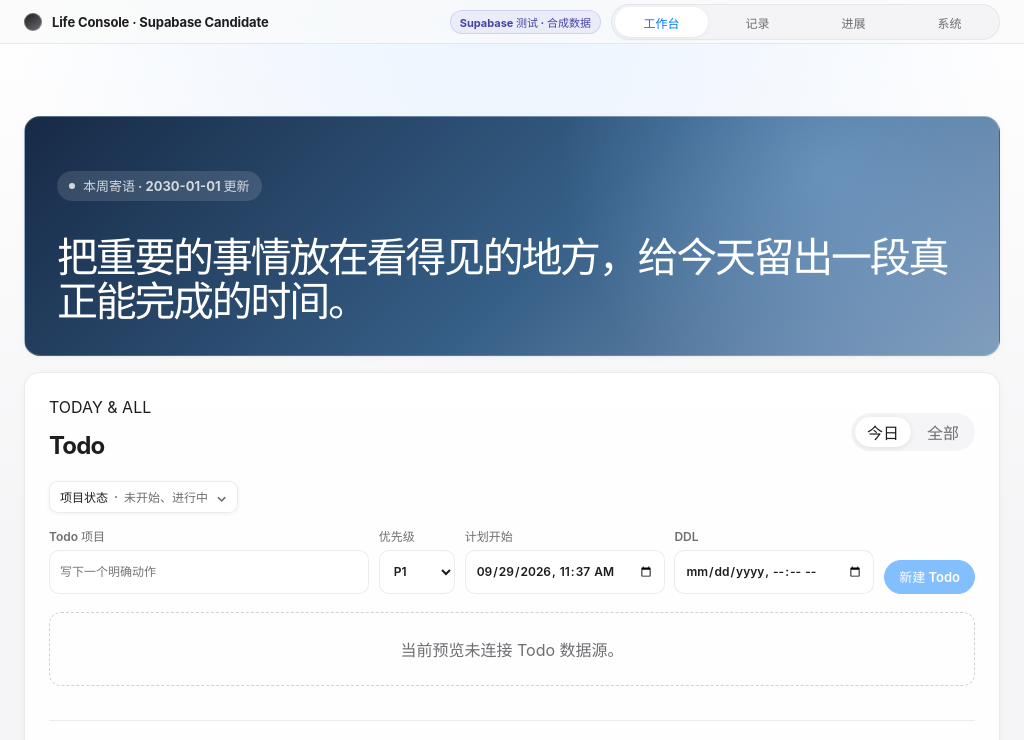
Test: Supabase candidate product application › guards the primary conversation form against duplicate submits while saving
Click the button "记录" at (757, 22), box [711, 7, 804, 37]
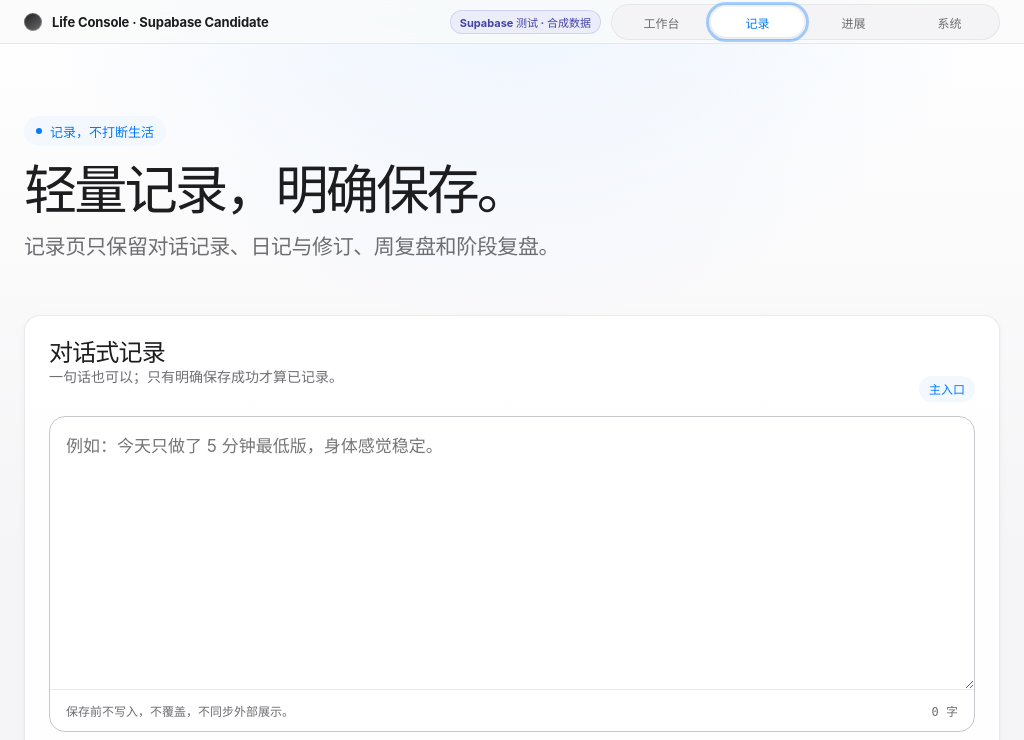
Type "Synthetic entry" into the text box named "直接描述想记录的内容" at (512, 553), box [50, 417, 974, 689]
(page scrolled)
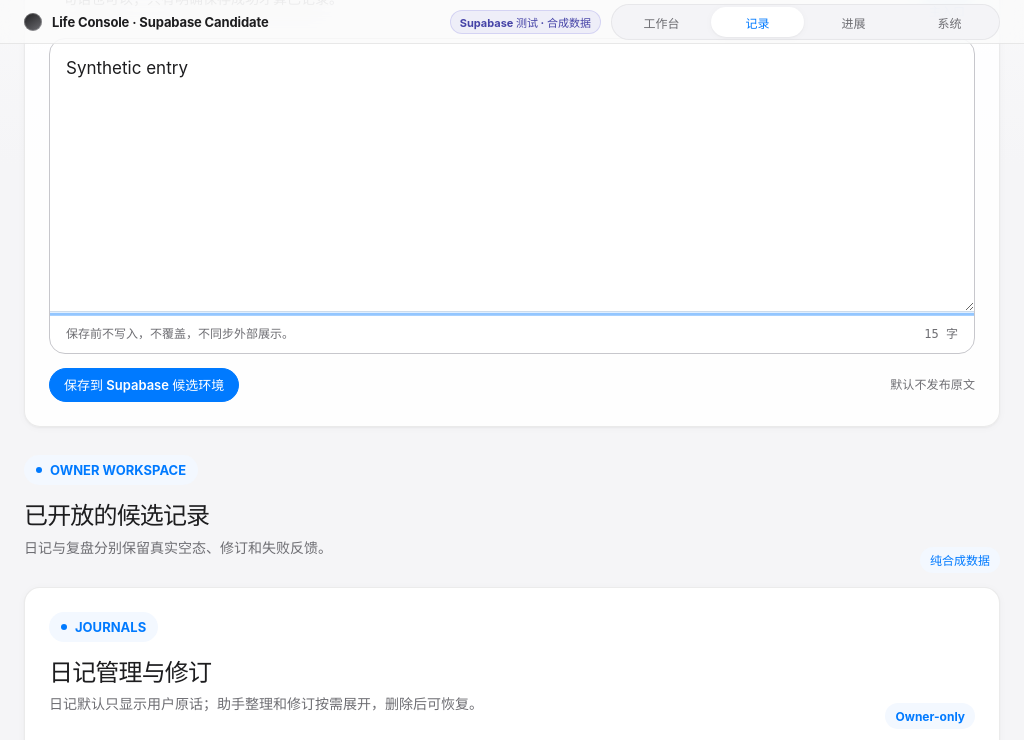
Click the button "保存到 Supabase 候选环境" at (144, 385), box [49, 368, 239, 402]
(page scrolled)
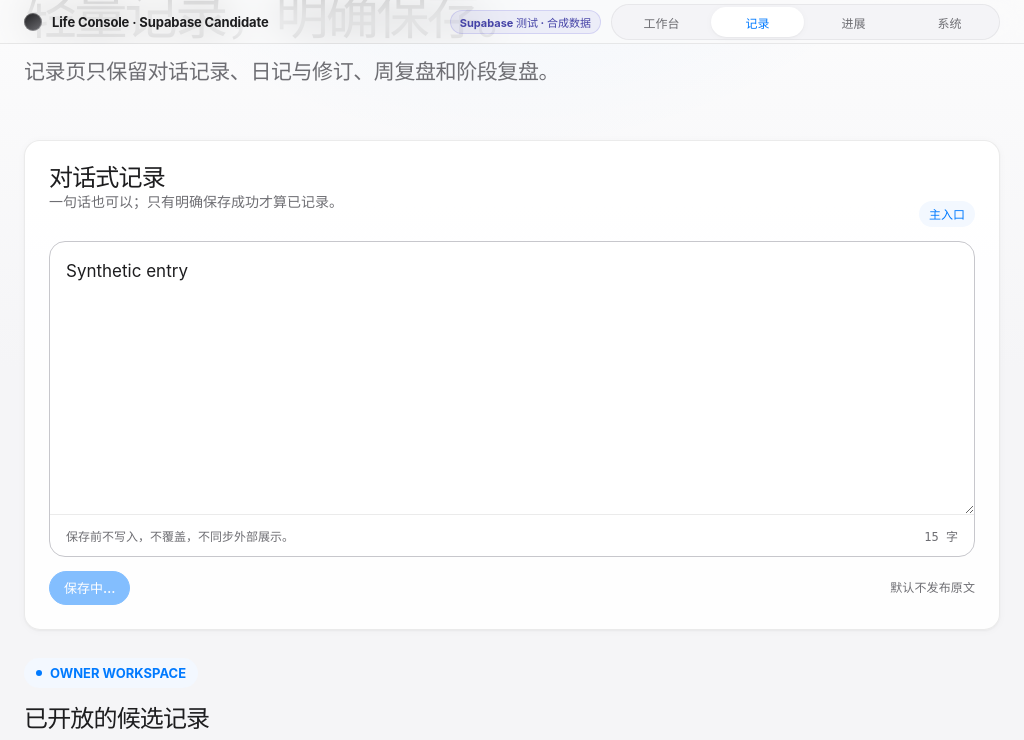
Submit the form named "保存到 Supabase 候选环境", box [49, 165, 975, 605]
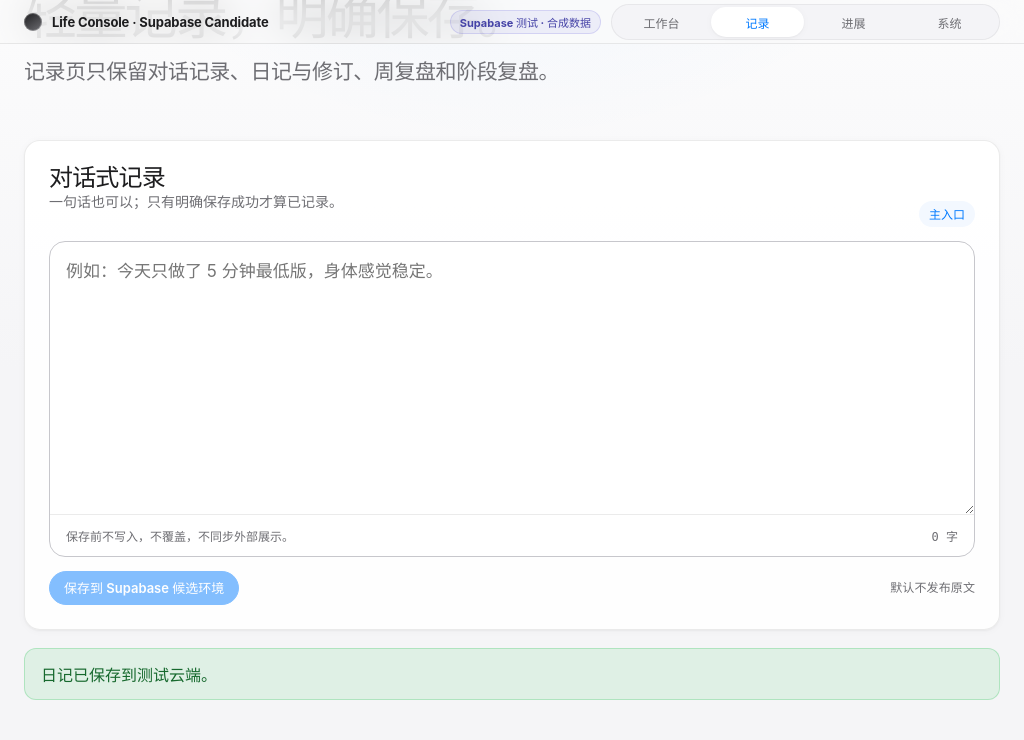
expect the button named "保存中…" is disabled: met, box [49, 571, 239, 605]
expect the text "日记已保存到测试云端。" is shown: met, box [24, 648, 1000, 700]
